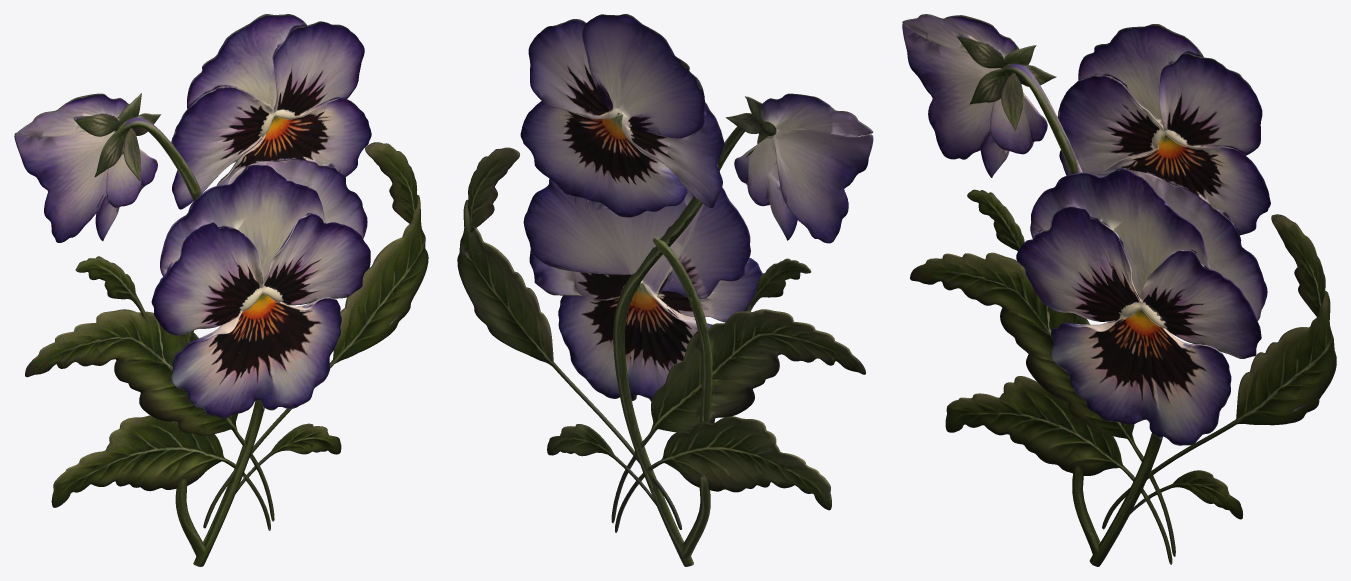
File: pansies.glb
3 renders of one model, left to right at view 1: azimuth 30°, elevation 25°; view 2: azimuth 150°, elevation 25°; view 3: azimuth 330°, elevation 25°, orthographic. The views are drawn at different scales.
Size of the model in its own units: 1.54 by 1.9 by 0.1165.
Materials: 1 (1 with a texture image).
